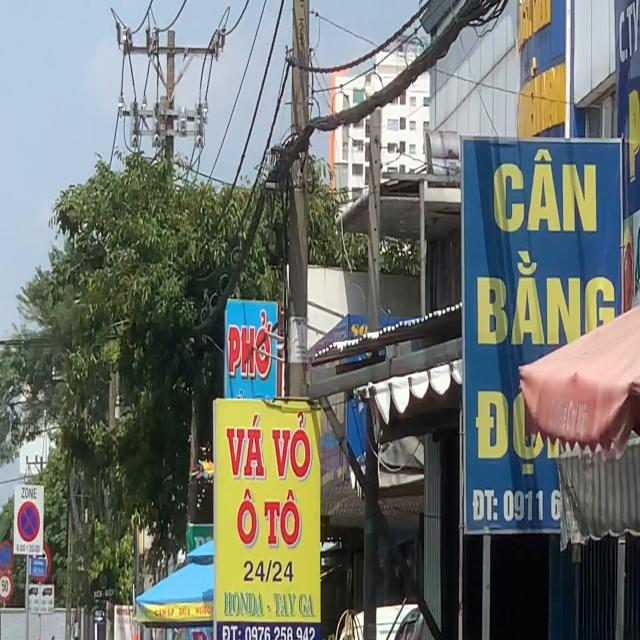Cam do: (0, 540, 13, 571)
Cam dung va do: (17, 501, 40, 542)
Toc do toi da: (0, 572, 13, 600)
